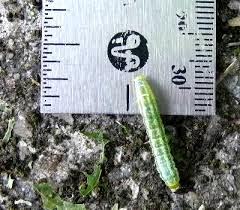Caterpillar: (130, 72, 185, 193)
